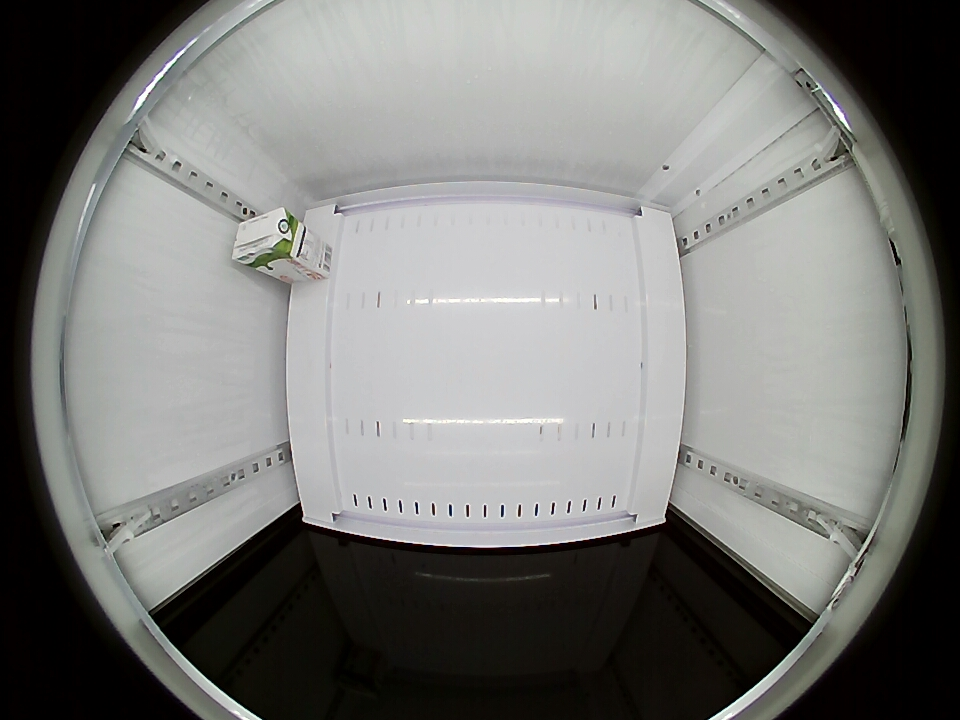mengniu: (231, 207, 300, 269)
